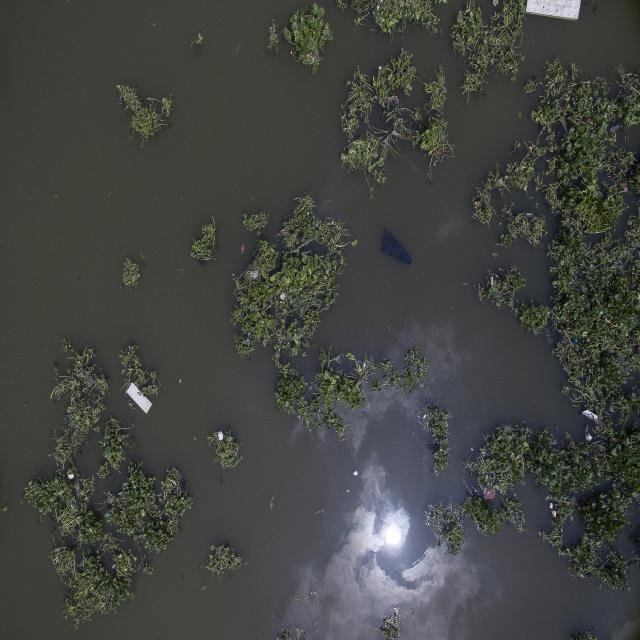plastic: (116, 370, 162, 420), (377, 223, 421, 275), (521, 0, 588, 25), (579, 401, 602, 427), (64, 465, 80, 489), (212, 427, 230, 448), (549, 498, 560, 530)
